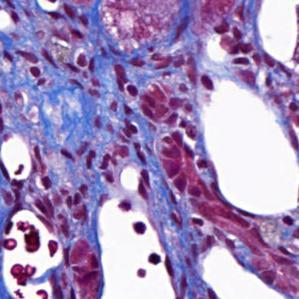inflammation: (6, 173, 64, 224), (217, 29, 261, 72), (134, 165, 157, 200)
